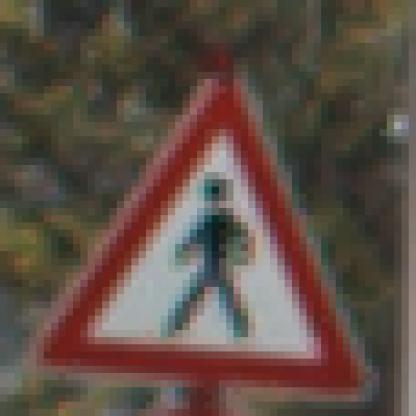crosswalk: (13, 47, 378, 399)
